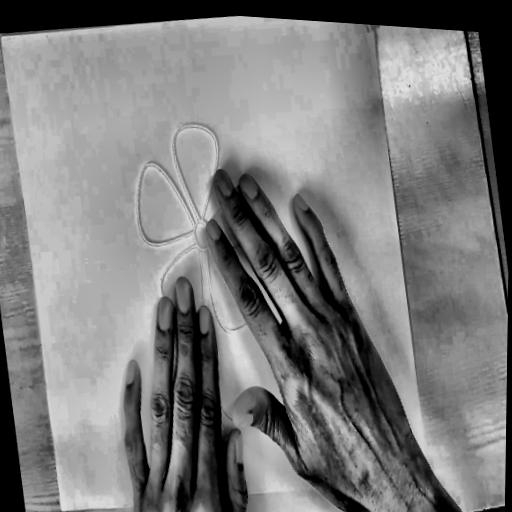bottom_left: (54, 498, 69, 512)
bottom_right: (423, 466, 435, 483)
flower: (119, 102, 303, 452)
top_left: (0, 33, 7, 45)
